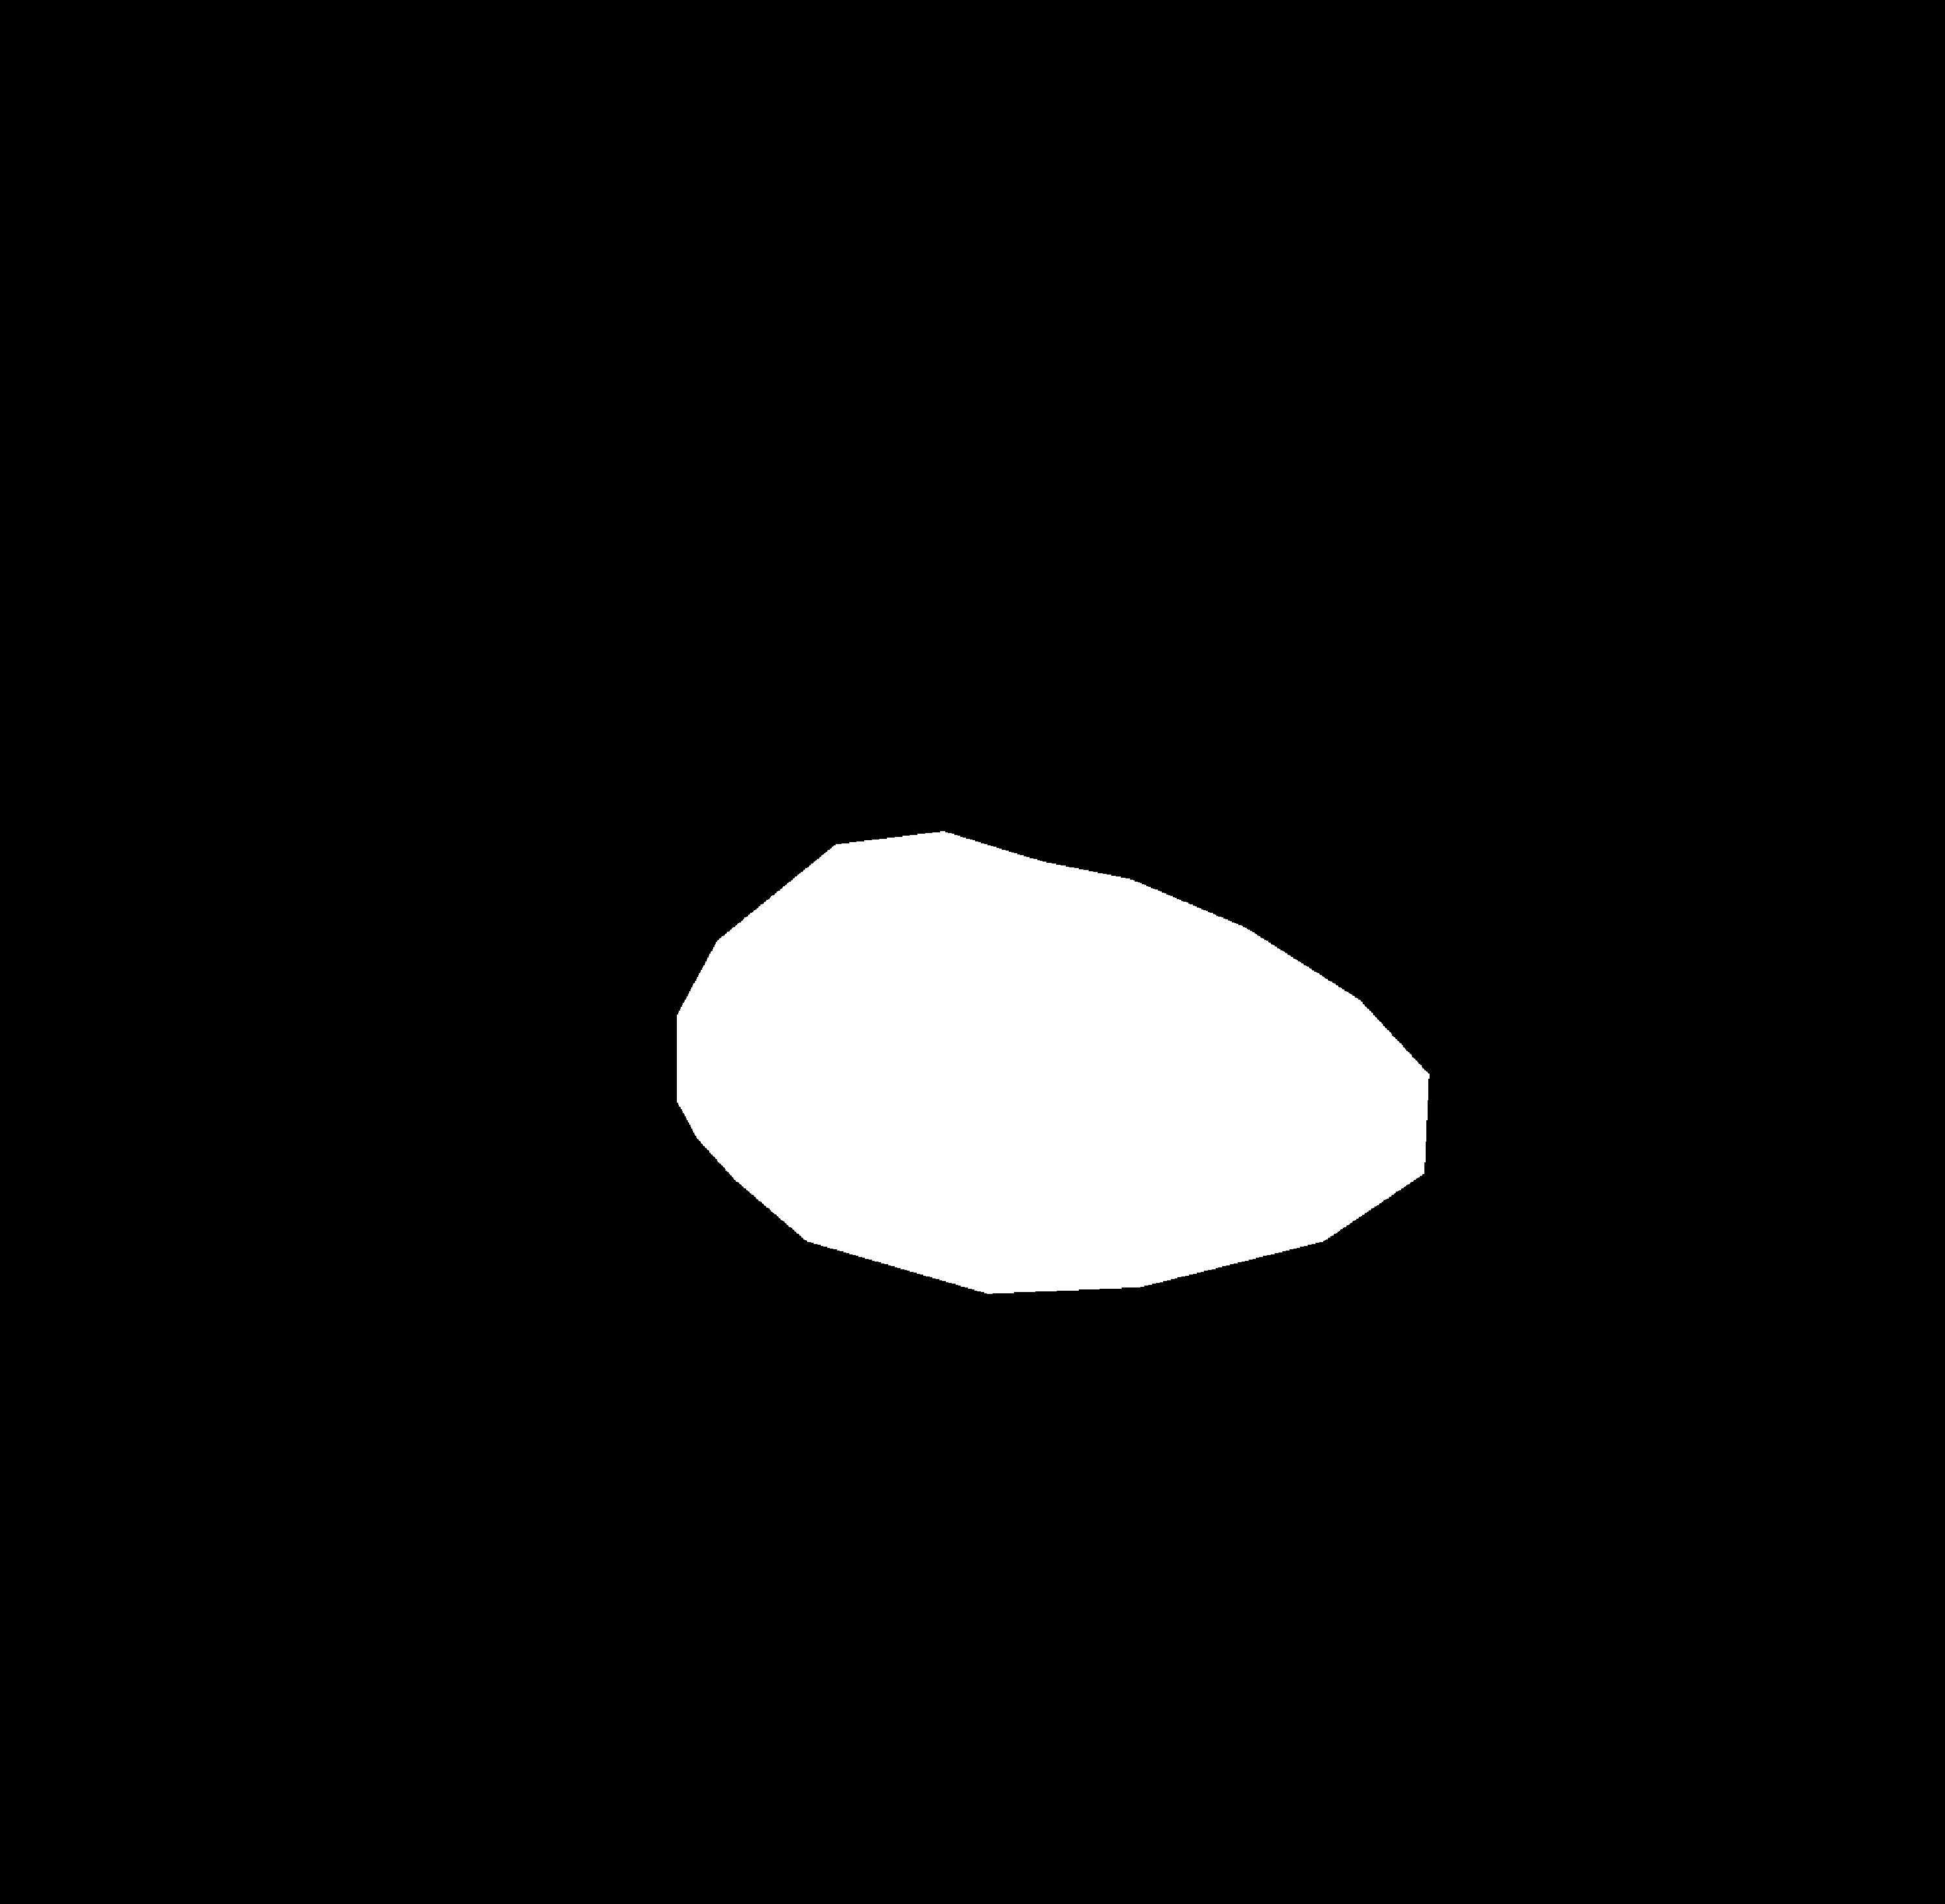heart: (665, 868, 1478, 1280)
left_lung: (211, 309, 795, 1201)
right_lung: (963, 303, 1580, 1210)
